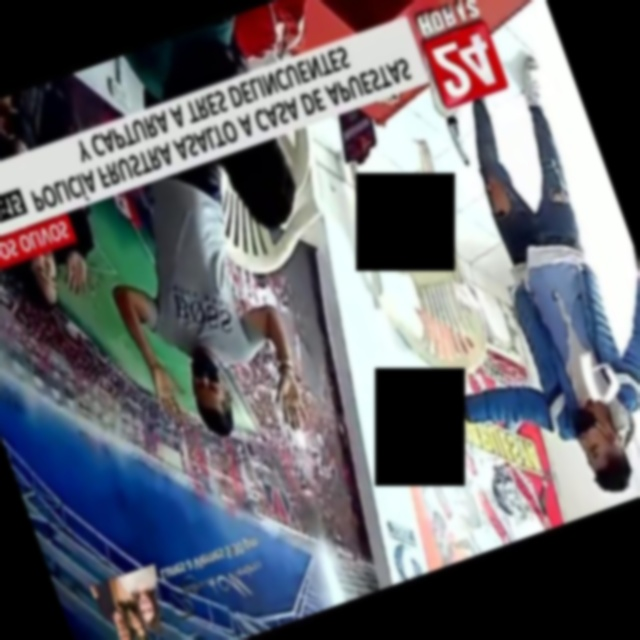gun: (386, 358, 474, 459)
